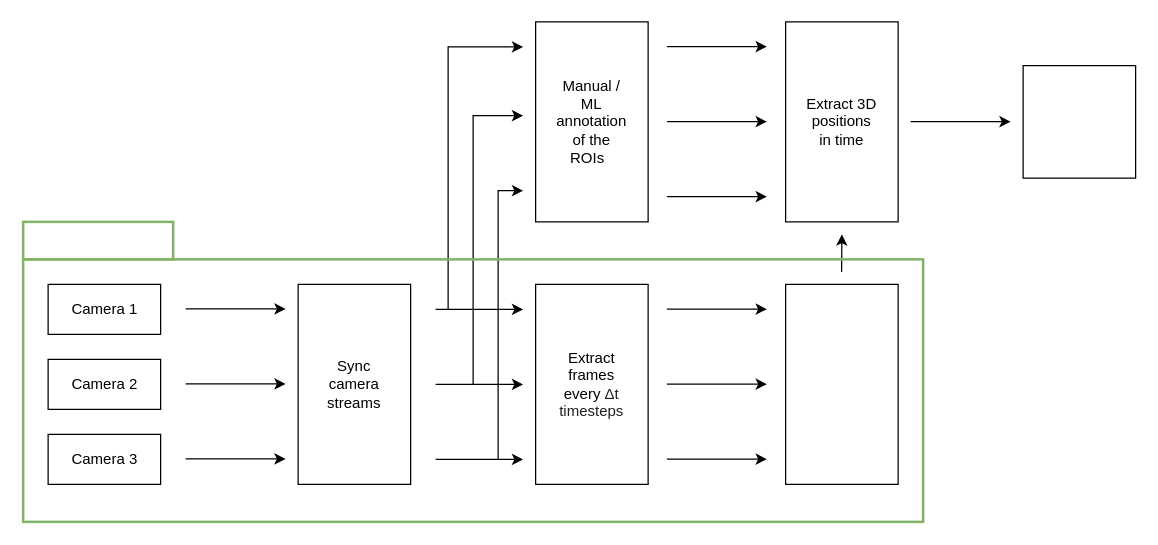
Some shapes in this 1158 by 545 pixel diagram are drawn without their labels. Each missing label, with the box of its shape:
Create 3D maps: (784, 283, 898, 484)
Pre-processing: (21, 220, 174, 260)
Write to Excel file: (1022, 64, 1136, 178)
